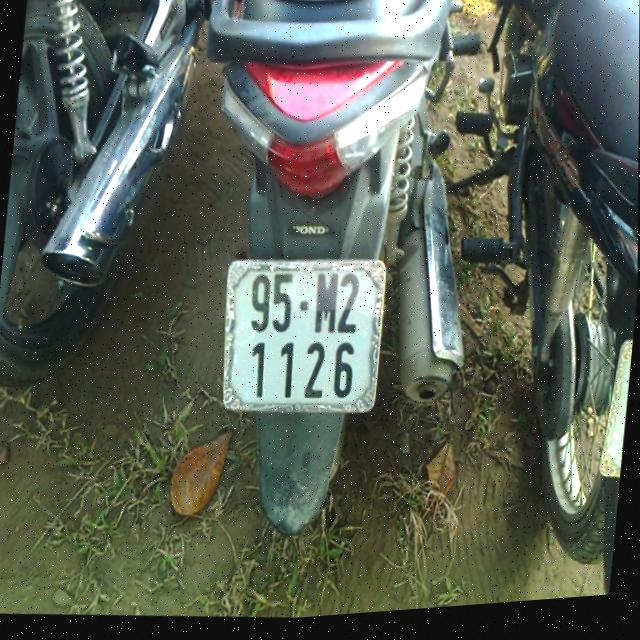motorcycle: (155, 0, 506, 571)
plate: (209, 241, 393, 427)
